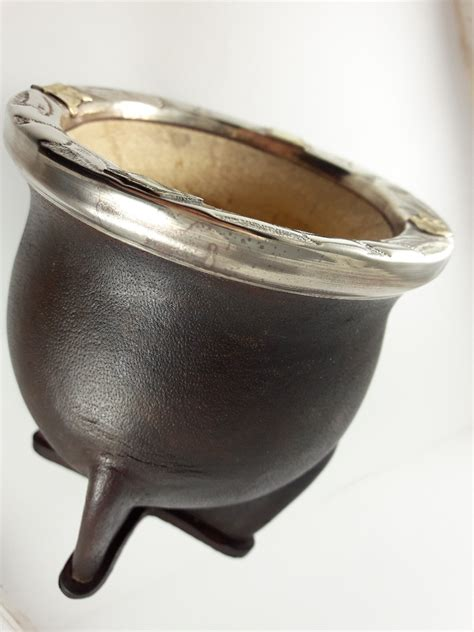cuero: (7, 180, 398, 602)
